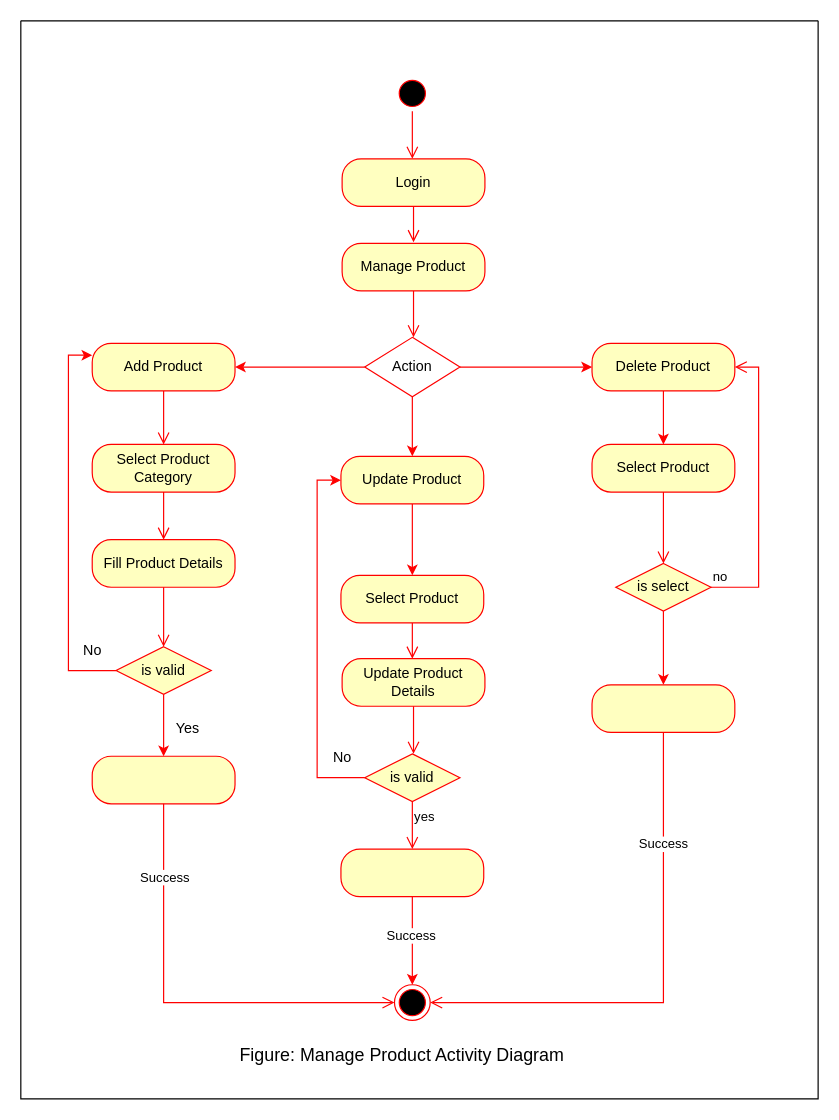
Image size: 839x1120. Some labels were removed from this diagram. The shapes that lost their labels are listed below. From the top down, each one's centre as x and y in pixels, then its label:
pixel 663 708: Delete
pixel 163 779: Create
pixel 412 872: Update
